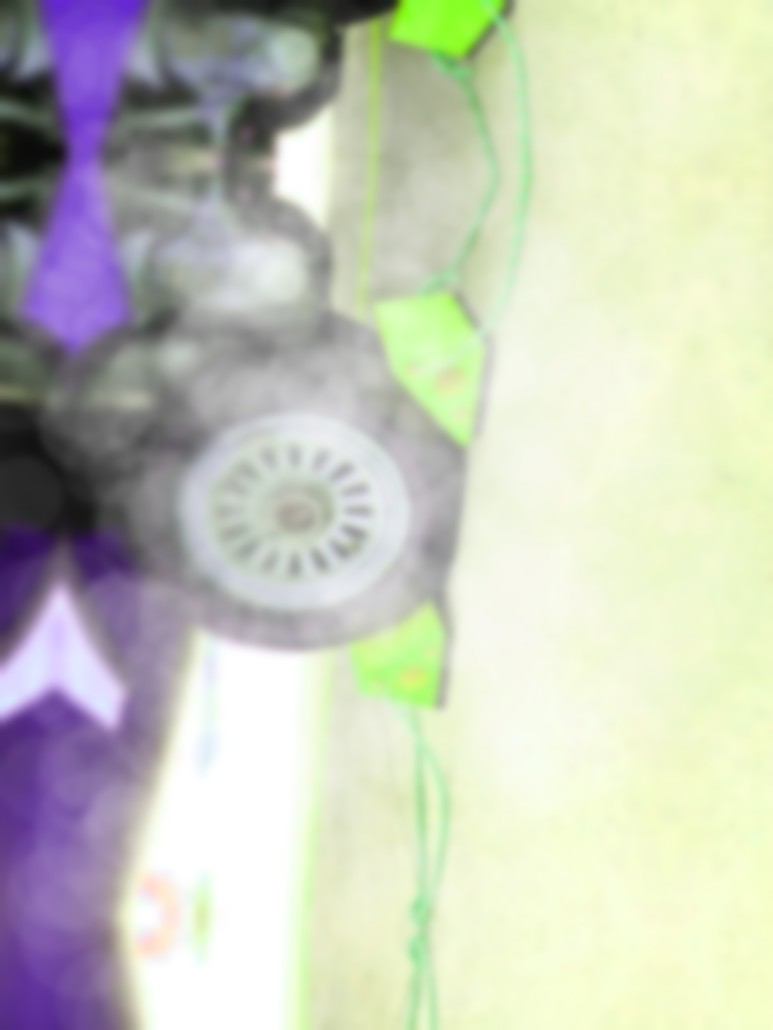chock: (364, 288, 499, 450), (343, 589, 456, 713), (385, 0, 520, 59)
wheel: (118, 335, 469, 659)
